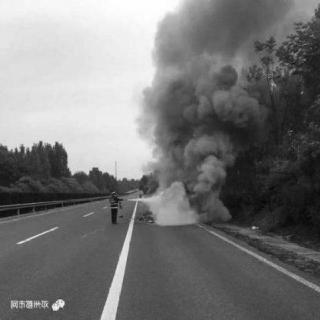Fire: (158, 206, 202, 226)
Smoke: (162, 61, 272, 201), (157, 2, 286, 62)
